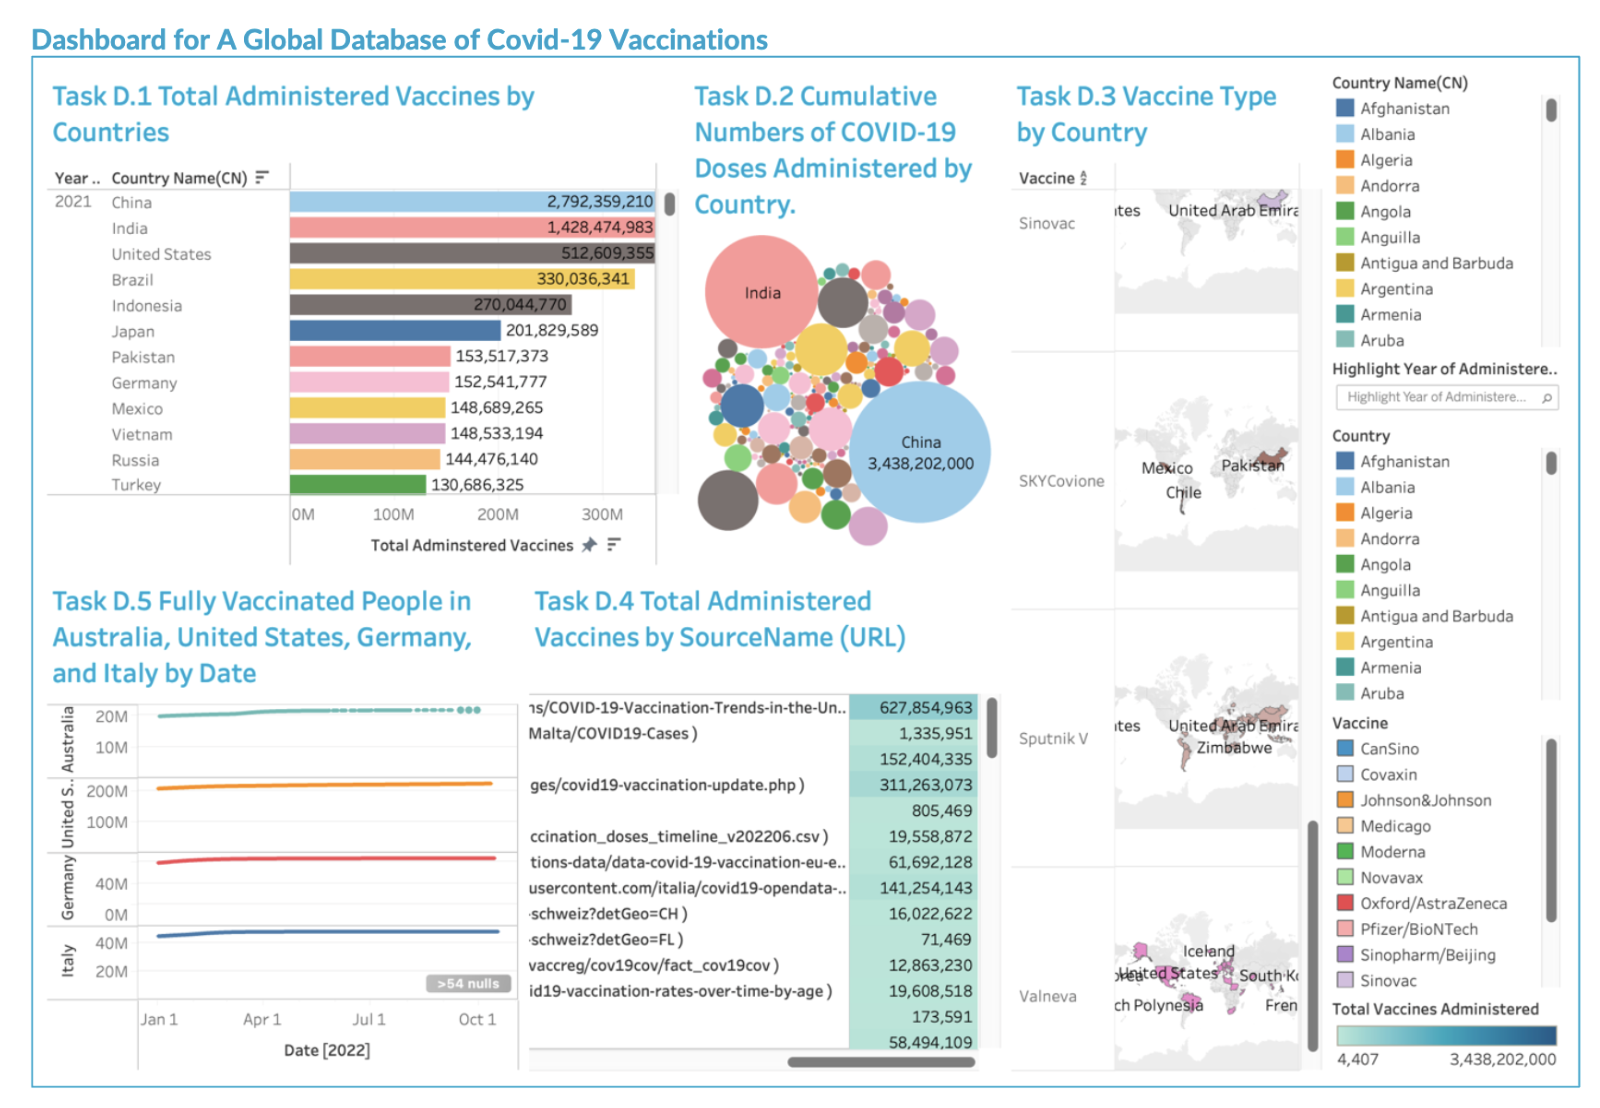

The dashboard page shown, as its layout file describes it:
{"tool":"tableau","page":{"name":"Covid-19","canvas":[1200,800],"ordinal":0},"visuals":[{"type":"worksheet","title":"Task D.1","mark":"Bar","rows":["Administered Vaccine on OD(VOD)","Country Name(CN)"],"cols":["Total Adminstered Vaccines"],"box":[8,8,498.5,392]},{"type":"worksheet","title":"Task D.2","mark":"Circle","box":[506.5,8,249.3,392]},{"type":"worksheet","title":"Task D.3","mark":"Multipolygon","rows":["Vaccine"],"box":[755.7,8,249.3,784]},{"type":"legend","title":"Task D.1","param":"[federated.0bz3xh30s4dt0b14xj8yf0yqk3mq].[none:Country Name(CN):nk]","box":[1005,8,187,222.3]},{"type":"highlighter","title":"Task D.1","param":"[federated.0bz3xh30s4dt0b14xj8yf0yqk3mq].[yr:Administered Vaccine on OD(VOD):ok]","box":[1005,230.3,187,52]},{"type":"legend","title":"Task D.2","param":"[federated.0omlji30bvcb2015bekmp1cib1xs].[none:Country:nk]","box":[1005,282.3,187,222.3]},{"type":"worksheet","title":"Task D.5","mark":"Automatic","rows":["Australia","United States","Germany","Italy"],"cols":["Date"],"box":[8,400,373.9,392]},{"type":"worksheet","title":"Task D.4","mark":"Square","rows":["Source Name(URL)"],"box":[381.9,400,373.9,392]},{"type":"legend","title":"Task D.3","param":"[federated.1hl9u4o1ojb1tp1am8mrz07hzpgk].[none:Vaccine:nk]","box":[1005,504.7,187,222.3]},{"type":"legend","title":"Task D.4","param":"[federated.0bqd2hl1il4x3o1ajc5oh05ohqn2].[sum:Total Vaccines Administered:qk]","box":[1005,727,187,65]}]}

Visuals, with their boxes on the page's 1200x800 design canvas (x1, y1, x2, y2). These are canvas units, not pixel positions in the 1600x1108 screenshot, which may show the page scaled, cropped or inside an application window:
"Task D.1" worksheet (Bar marks): Rect(8, 8, 506, 400)
"Task D.2" worksheet (Circle marks): Rect(506, 8, 756, 400)
"Task D.3" worksheet (Multipolygon marks): Rect(756, 8, 1005, 792)
"Task D.1" legend: Rect(1005, 8, 1192, 230)
"Task D.1" highlighter: Rect(1005, 230, 1192, 282)
"Task D.2" legend: Rect(1005, 282, 1192, 505)
"Task D.5" worksheet: Rect(8, 400, 382, 792)
"Task D.4" worksheet (Square marks): Rect(382, 400, 756, 792)
"Task D.3" legend: Rect(1005, 505, 1192, 727)
"Task D.4" legend: Rect(1005, 727, 1192, 792)
